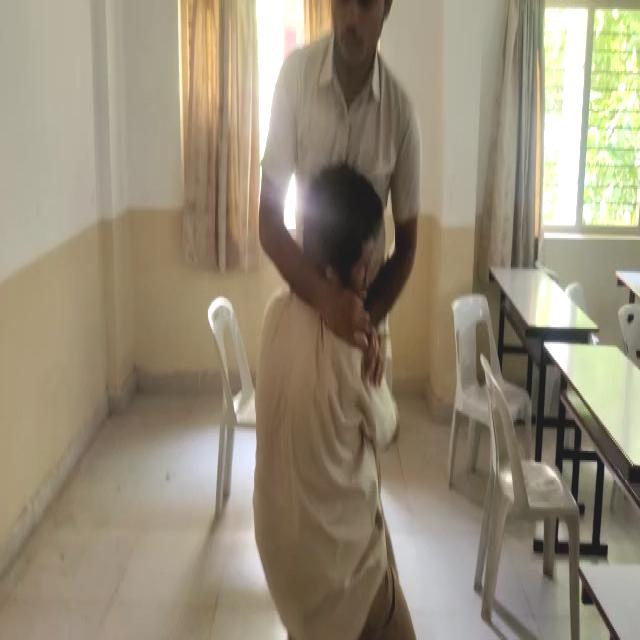fight: (162, 0, 447, 640)
